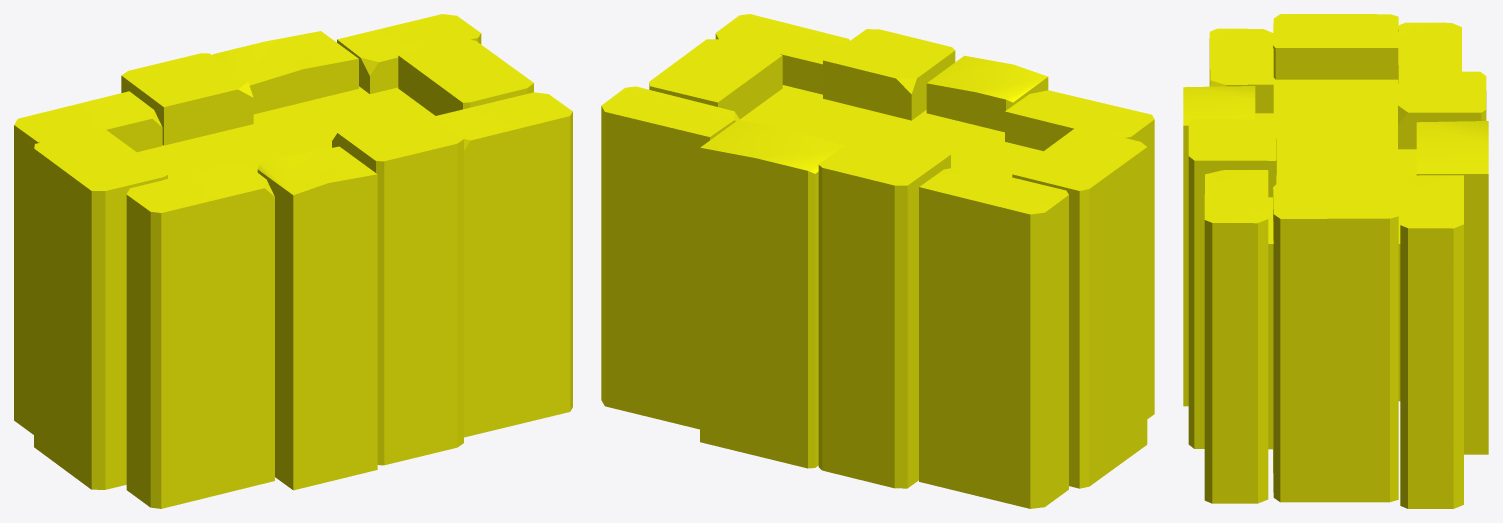
The picture shows the model from 3 angles, left to right: view 1: azimuth 30°, elevation 25°; view 2: azimuth 150°, elevation 25°; view 3: azimuth 270°, elevation 25°; orthographic projection. The views are drawn at different scales.
Visible parts, largest first — view 1: anObstacle02; view 2: anObstacle02; view 3: anObstacle02.
Part boxes in pixels (left/top/right/bottom): anObstacle02: left=14, top=14, right=572, bottom=508; anObstacle02: left=601, top=14, right=1154, bottom=508; anObstacle02: left=1183, top=14, right=1488, bottom=508.
Size of the model in its own units: 3.99 by 2.54 by 2.43.
1 material, 1 textured.
